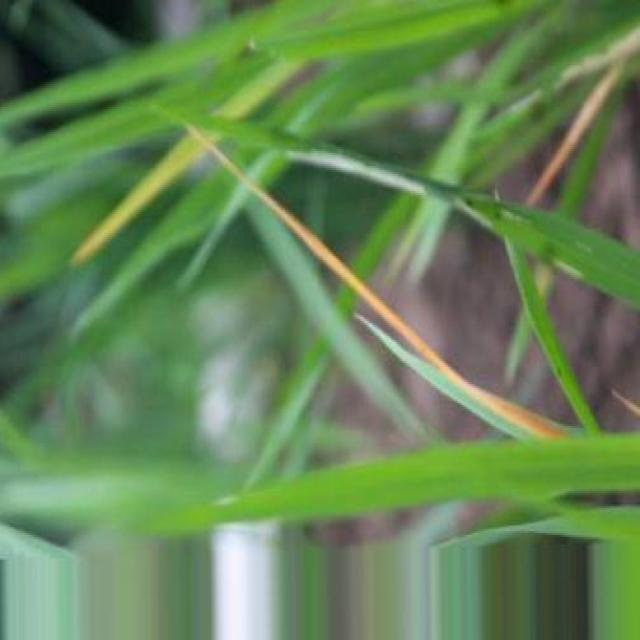Rice Tungro: (188, 129, 570, 438), (71, 137, 202, 264), (528, 60, 622, 206)
